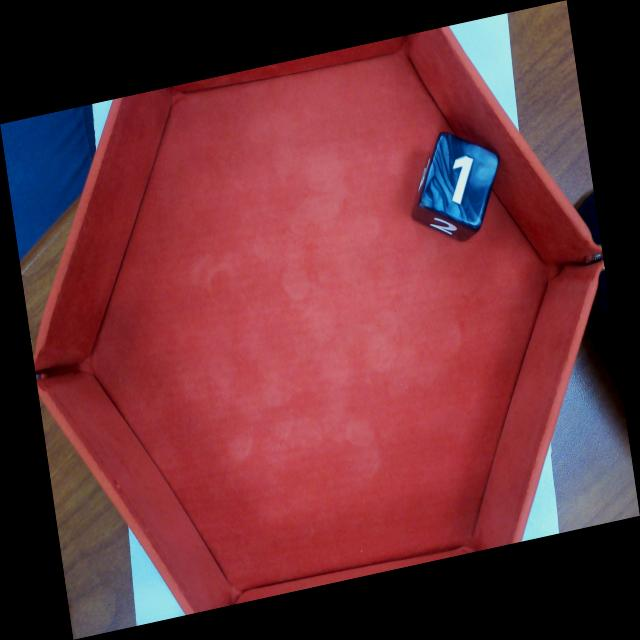dice: (420, 132, 499, 230)
